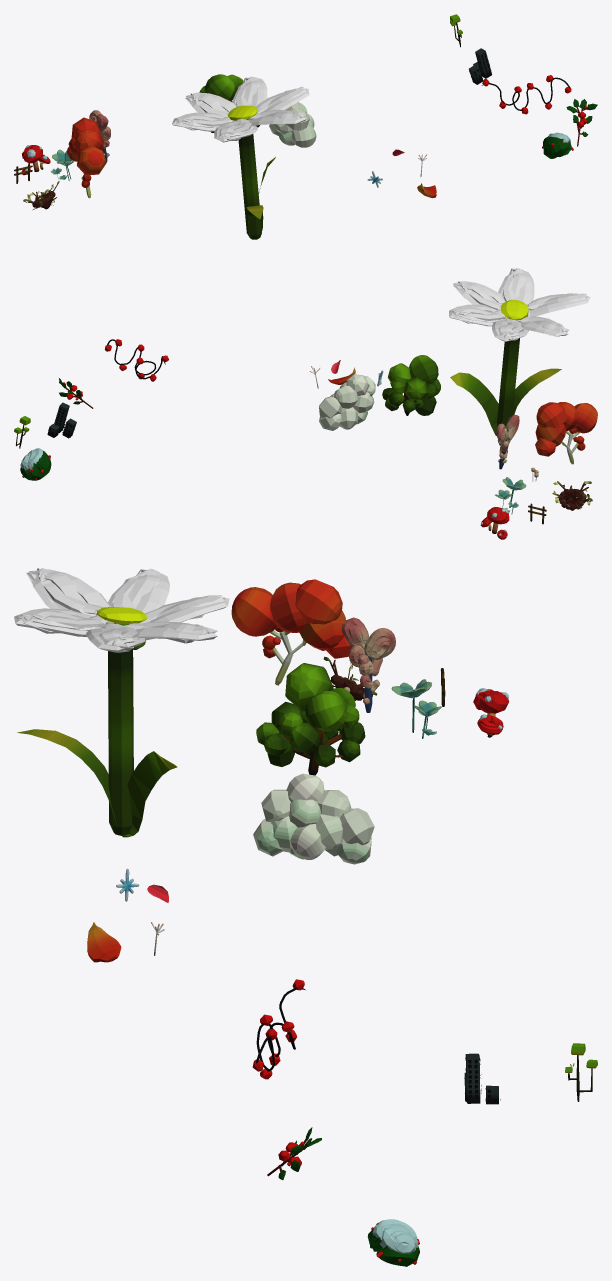
File: 0ptibase.fbx
The picture shows the model from 3 angles, top to bottom: view 1: azimuth 30°, elevation 25°; view 2: azimuth 150°, elevation 25°; view 3: azimuth 270°, elevation 25°; orthographic projection. The views are drawn at different scales.
Visible parts, largest first — view 1: Fllowee, Lleafwhhi, Cloud, NewLayer0, Guirlande, Bushwinter, Building, Houx, NewLayer2, Ciuperci, Treehighbubble, trefle; view 2: Fllowee, NewLayer0, Lleafwhhi, Cloud, NewLayer2, Bushwinter, Treehighbubble, Guirlande, Building, Ciuperci, trefle; view 3: Fllowee, Cloud, NewLayer0, Lleafwhhi, Treehighbubble, Bushwinter, Guirlande, NewLayer2, Ciuperci, Building, Leaf, trefle.
Boxes of the visible parts, box(x1,y1,x2,y2) form: Fllowee: box(172, 76, 309, 239); Lleafwhhi: box(67, 117, 106, 187); Cloud: box(269, 102, 316, 147); NewLayer0: box(199, 74, 243, 132); Guirlande: box(481, 75, 571, 114); Bushwinter: box(542, 132, 573, 158); Building: box(469, 48, 491, 84); Houx: box(566, 99, 597, 146); NewLayer2: box(23, 159, 91, 209); Ciuperci: box(21, 145, 50, 175); Treehighbubble: box(89, 110, 110, 161); trefle: box(50, 149, 74, 181); Fllowee: box(449, 268, 590, 435); NewLayer0: box(382, 355, 440, 415); Lleafwhhi: box(535, 402, 597, 456); Cloud: box(319, 374, 375, 430); NewLayer2: box(552, 431, 592, 510); Bushwinter: box(20, 448, 51, 480); Treehighbubble: box(496, 414, 519, 469); Guirlande: box(105, 339, 168, 381); Building: box(47, 402, 76, 438); Ciuperci: box(480, 507, 509, 539); trefle: box(495, 477, 526, 514); Fllowee: box(14, 568, 229, 837); Cloud: box(253, 773, 374, 864); NewLayer0: box(256, 663, 365, 767); Lleafwhhi: box(231, 579, 351, 658); Treehighbubble: box(341, 617, 395, 712); Bushwinter: box(367, 1219, 419, 1266); Guirlande: box(252, 979, 305, 1079); NewLayer2: box(270, 630, 379, 700); Ciuperci: box(473, 688, 509, 737); Building: box(464, 1053, 500, 1104); Leaf: box(87, 922, 121, 962); trefle: box(391, 679, 441, 738).
Bounding box in the file's own units: 6.02 × 2.23 × 3.34.
